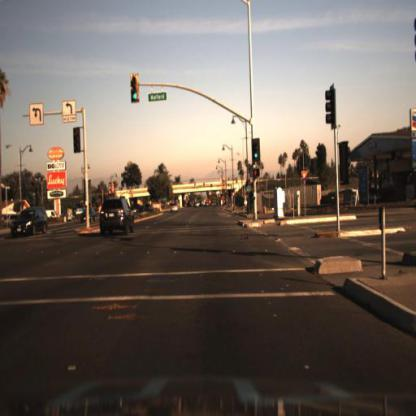car: (100, 194, 138, 239), (11, 207, 49, 239), (80, 205, 98, 225)
trafficLight-Green: (249, 137, 264, 164), (133, 71, 141, 109)
